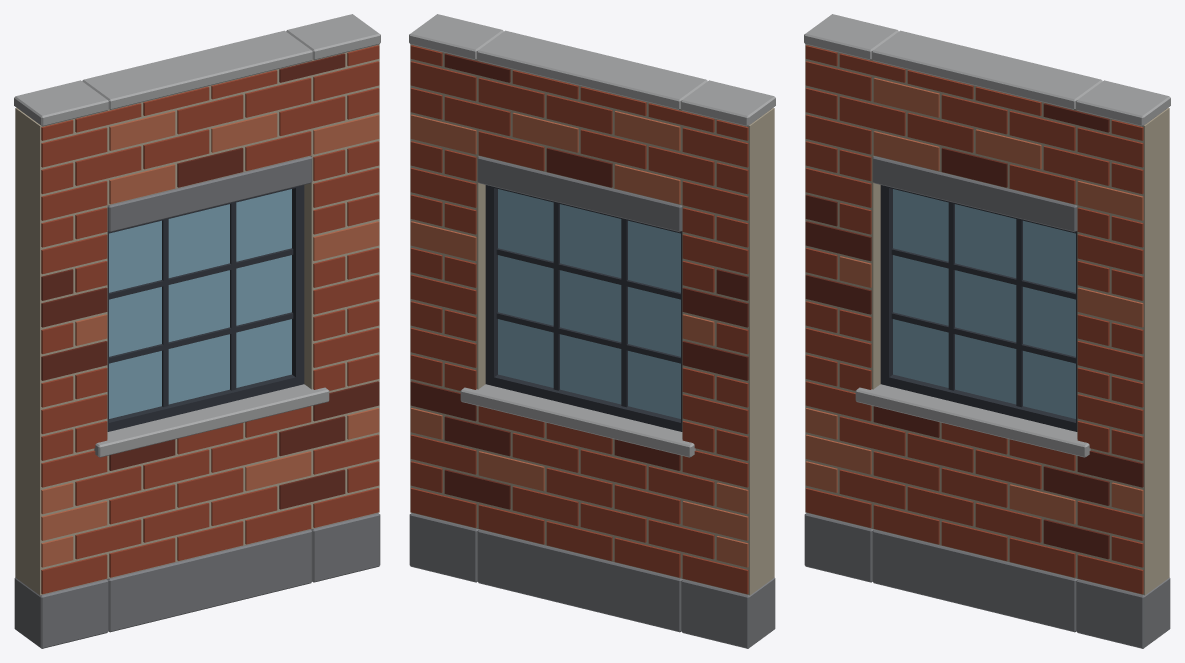
The model's file is Wall_Brick_Window.fbx.
3 views of the same model, side by side, from view 1: azimuth 30°, elevation 25°; view 2: azimuth 150°, elevation 25°; view 3: azimuth 330°, elevation 25° (orthographic).
Parts seen in each view (by area): view 1: Wall_Brick_Window; view 2: Wall_Brick_Window; view 3: Wall_Brick_Window.
Boxes of the visible parts, box(x1,y1,x2,y2) form: Wall_Brick_Window: box(14, 14, 380, 648); Wall_Brick_Window: box(409, 14, 775, 648); Wall_Brick_Window: box(804, 14, 1170, 648).
Bounding box in the file's own units: 2 × 3 × 0.35.
1 material, 1 textured.
